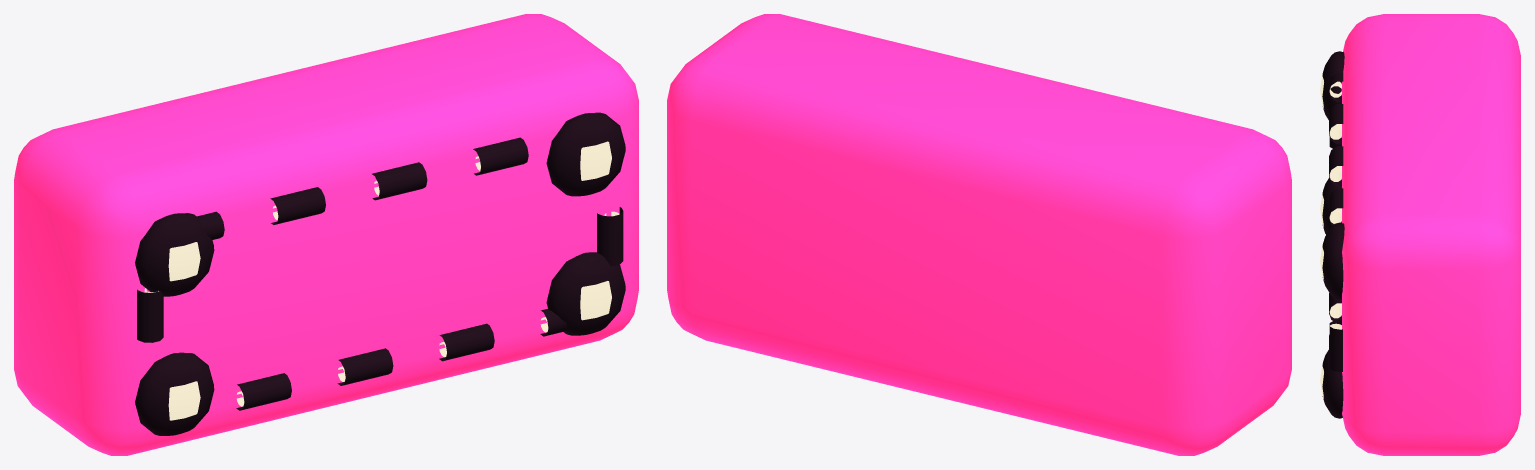
The model's file is brick_ghost_b.glb.
3 views of the same model, side by side, from view 1: azimuth 30°, elevation 25°; view 2: azimuth 150°, elevation 25°; view 3: azimuth 270°, elevation 25° (orthographic). The views are drawn at different scales.
Visible parts, largest first — view 1: type_ghost_b; view 2: type_ghost_b; view 3: type_ghost_b.
Boxes of the visible parts, box(x1,y1,x2,y2) form: type_ghost_b: box(14, 14, 638, 455); type_ghost_b: box(667, 14, 1291, 455); type_ghost_b: box(1320, 14, 1520, 455).
Size of the model in its own units: 0.92 by 0.44 by 0.337.
